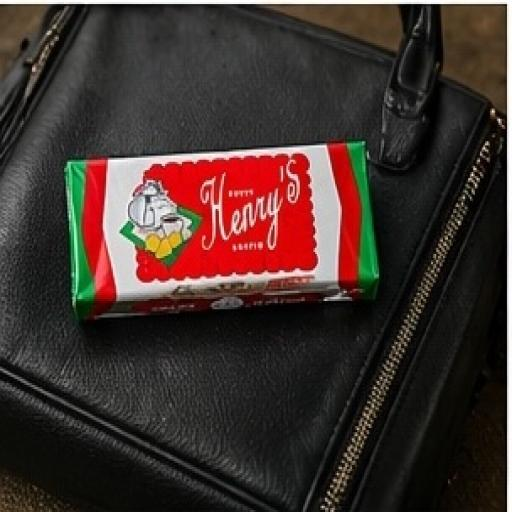henry-s: (21, 107, 442, 384)
